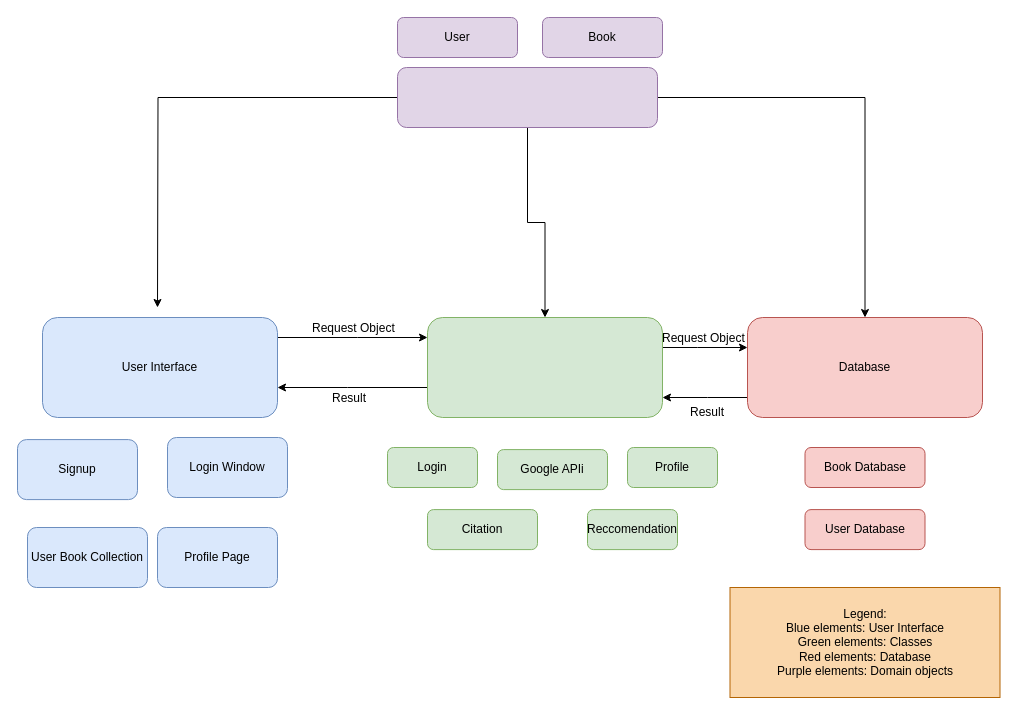
Image size: 1018x715. Some labels were removed from this diagram. Each missing label, with the box of its shape:
Classes: (426, 316, 662, 418)
Domain Objects: (396, 66, 658, 128)
